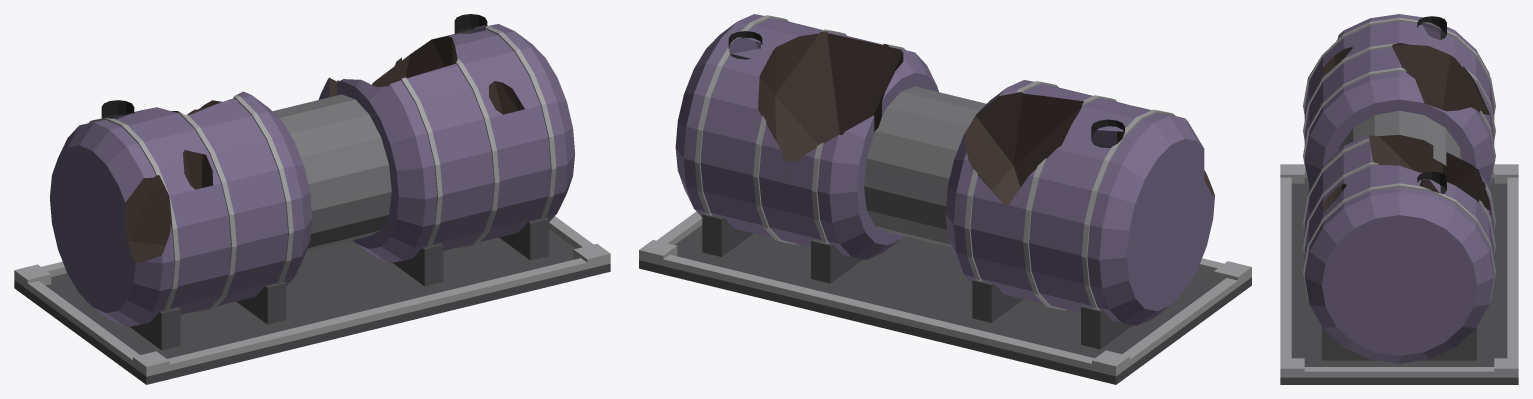
File: vge_d_giantastrofueltank.obj
3 views of the same model, side by side, from view 1: azimuth 30°, elevation 25°; view 2: azimuth 150°, elevation 25°; view 3: azimuth 270°, elevation 25° (orthographic). The views are drawn at different scales.
Parts seen in each view (by area): view 1: vge_d_giantastrofueltank; view 2: vge_d_giantastrofueltank; view 3: vge_d_giantastrofueltank.
Boxes of the visible parts, box(x1,y1,x2,y2) form: vge_d_giantastrofueltank: box(14, 14, 610, 384); vge_d_giantastrofueltank: box(639, 14, 1251, 384); vge_d_giantastrofueltank: box(1280, 14, 1518, 384).
Size of the model in its own units: 5.92 by 2.47 by 2.92.
